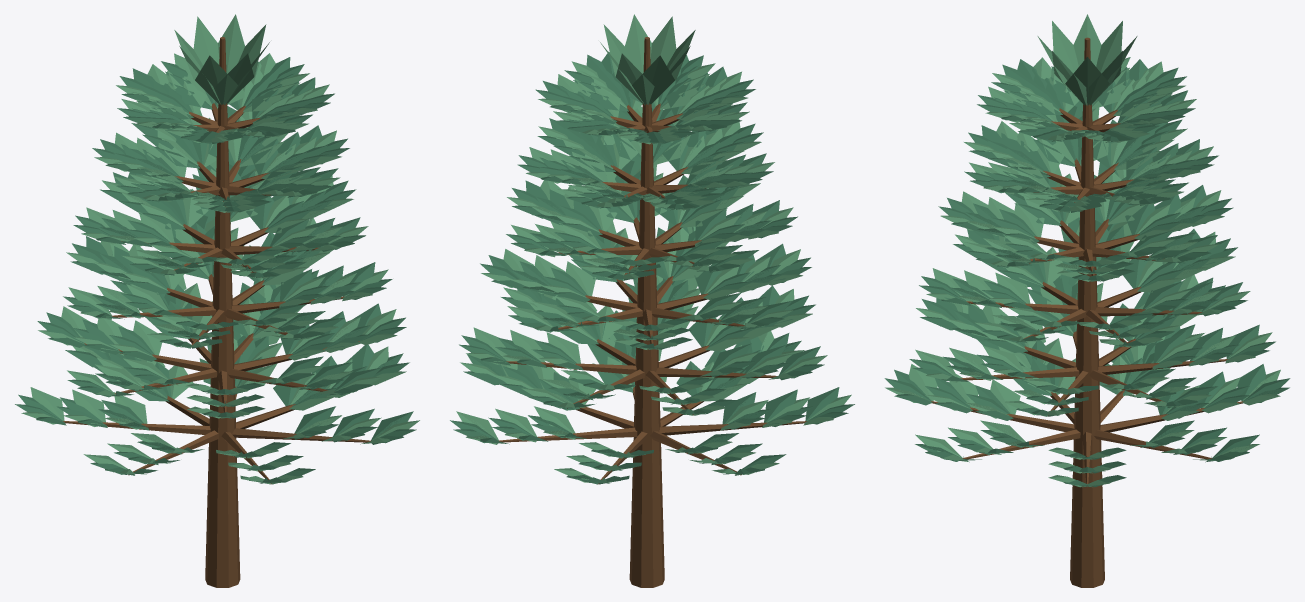
File: conifer_lod0.glb
3 views of the same model, side by side, from view 1: azimuth 30°, elevation 25°; view 2: azimuth 150°, elevation 25°; view 3: azimuth 270°, elevation 25° (orthographic).
Visible parts, largest first — view 1: conifer_lod0; view 2: conifer_lod0; view 3: conifer_lod0.
Boxes of the visible parts, left/top/right/bottom form: conifer_lod0: left=15, top=14, right=419, bottom=587; conifer_lod0: left=450, top=14, right=854, bottom=587; conifer_lod0: left=884, top=14, right=1290, bottom=587.
Bounding box in the file's own units: 5.18 × 7.77 × 5.25.
